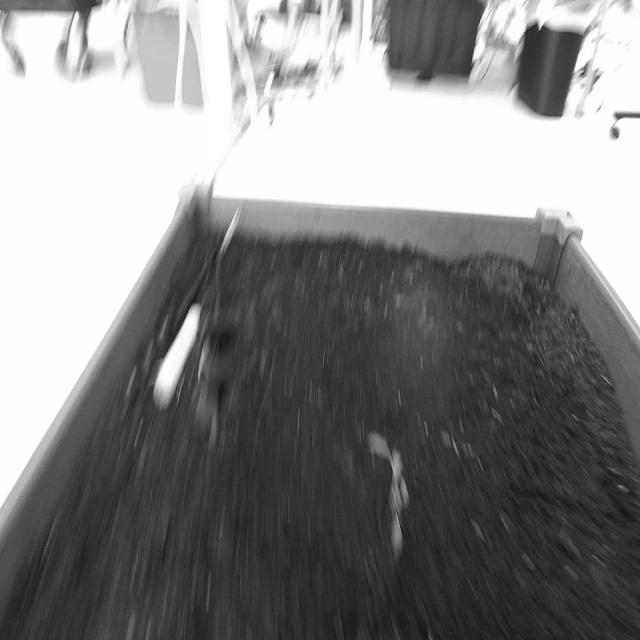Healthy: (361, 421, 417, 572)
